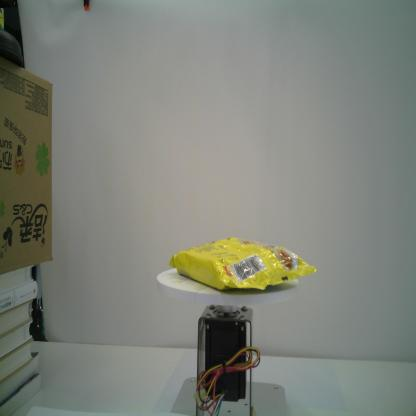Instant Noodles: (168, 236, 317, 292)
